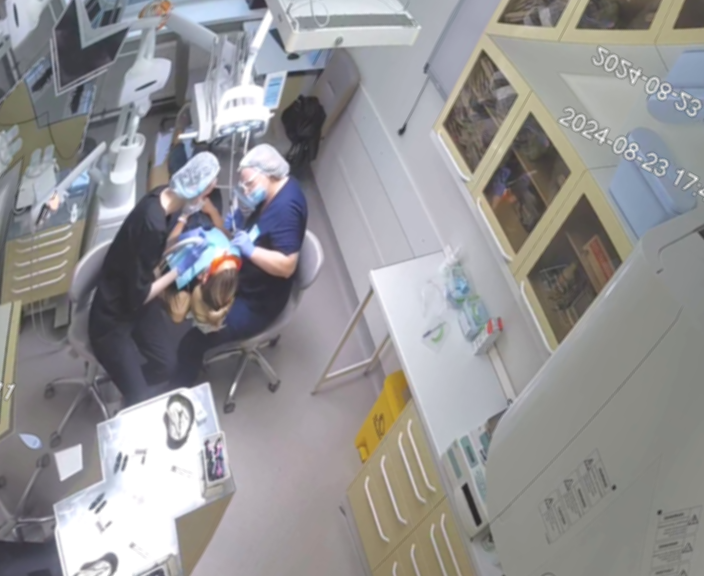Patient: (82, 91, 318, 349)
